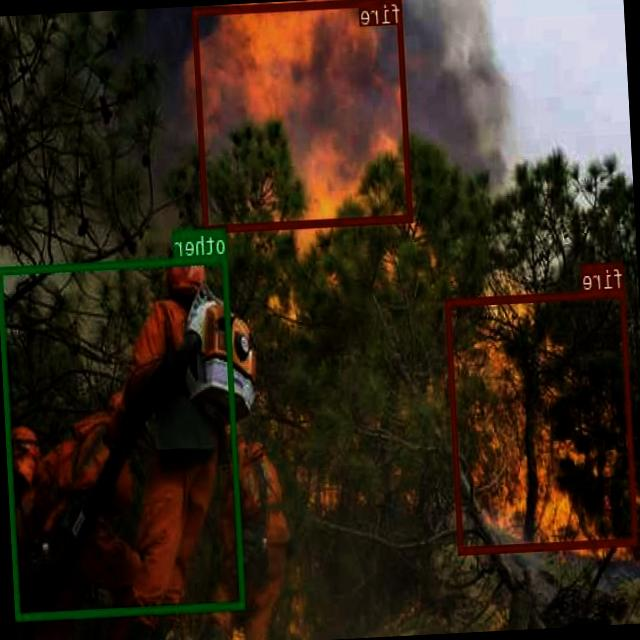fire: (446, 289, 639, 554), (194, 0, 413, 231)
